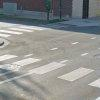Crosswalk: (6, 45, 100, 100)
